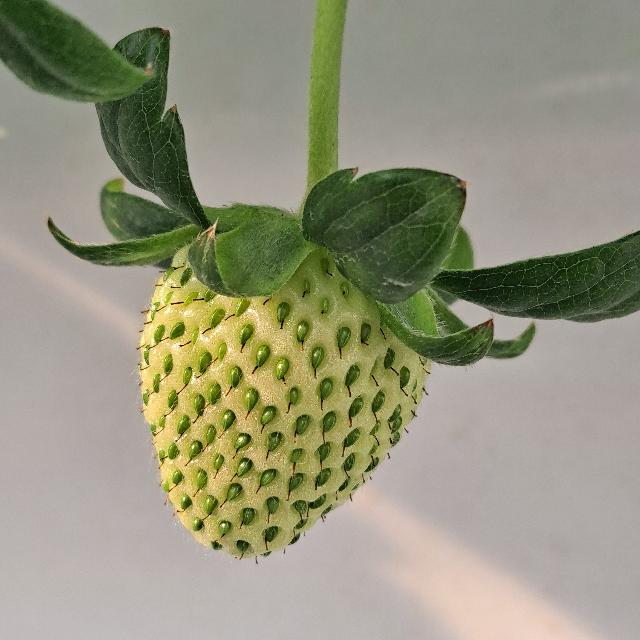Health_25: (138, 240, 432, 558)
